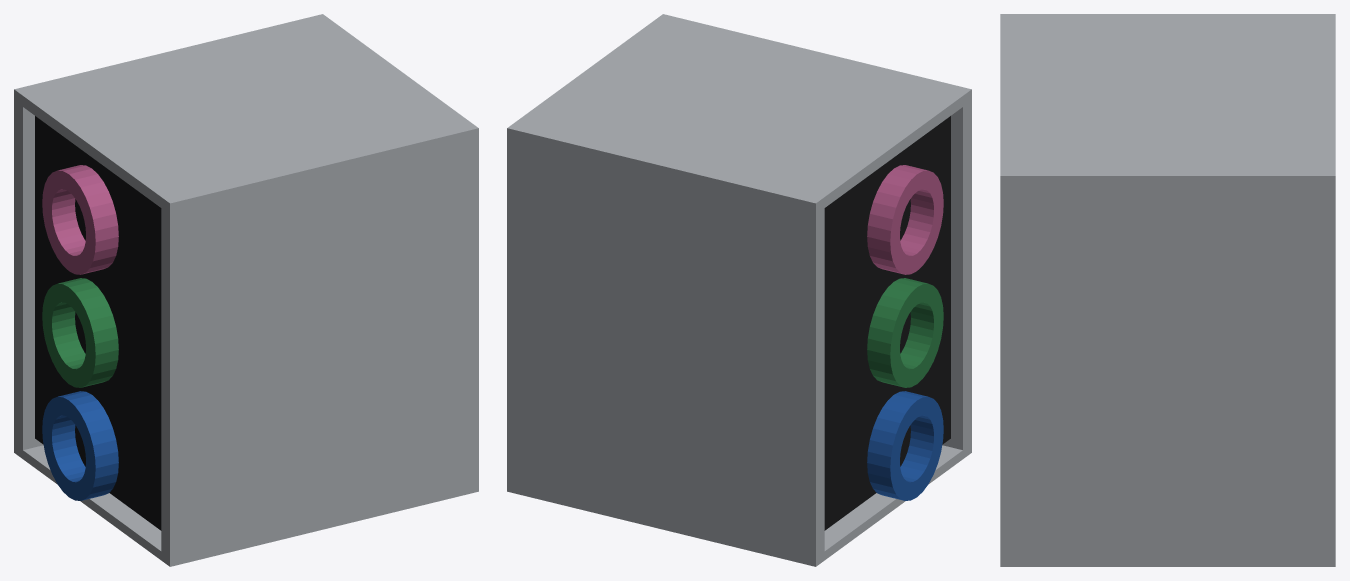
File: L130_REAR_AUDIO.fbx
3 views of the same model, side by side, from view 1: azimuth 30°, elevation 25°; view 2: azimuth 150°, elevation 25°; view 3: azimuth 270°, elevation 25° (orthographic). The views are drawn at different scales.
Visible parts, largest first — view 1: REAR_AUDIO__Steel, REAR_AUDIO__Plastic, REAR_AUDIO__Pink, REAR_AUDIO__Blue, REAR_AUDIO__Green; view 2: REAR_AUDIO__Steel, REAR_AUDIO__Plastic, REAR_AUDIO__Pink, REAR_AUDIO__Blue, REAR_AUDIO__Green; view 3: REAR_AUDIO__Steel.
Part boxes in pixels (x1,y1,x2,y2): REAR_AUDIO__Steel: (14,14,478,566); REAR_AUDIO__Plastic: (35,116,161,530); REAR_AUDIO__Pink: (42,165,118,274); REAR_AUDIO__Blue: (42,391,118,500); REAR_AUDIO__Green: (42,278,118,387); REAR_AUDIO__Steel: (507,14,971,566); REAR_AUDIO__Plastic: (824,116,950,530); REAR_AUDIO__Pink: (867,165,943,274); REAR_AUDIO__Blue: (867,391,943,500); REAR_AUDIO__Green: (867,278,943,387); REAR_AUDIO__Steel: (1000,14,1335,566).
Size of the model in its own units: 17.2 by 18 by 14.
